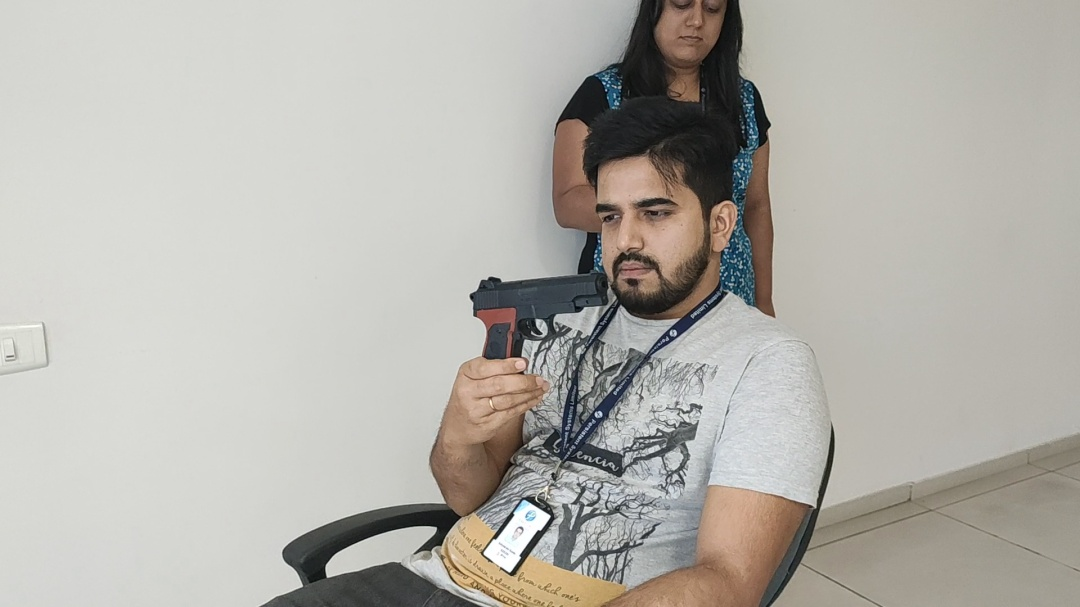gun: (468, 269, 609, 356)
